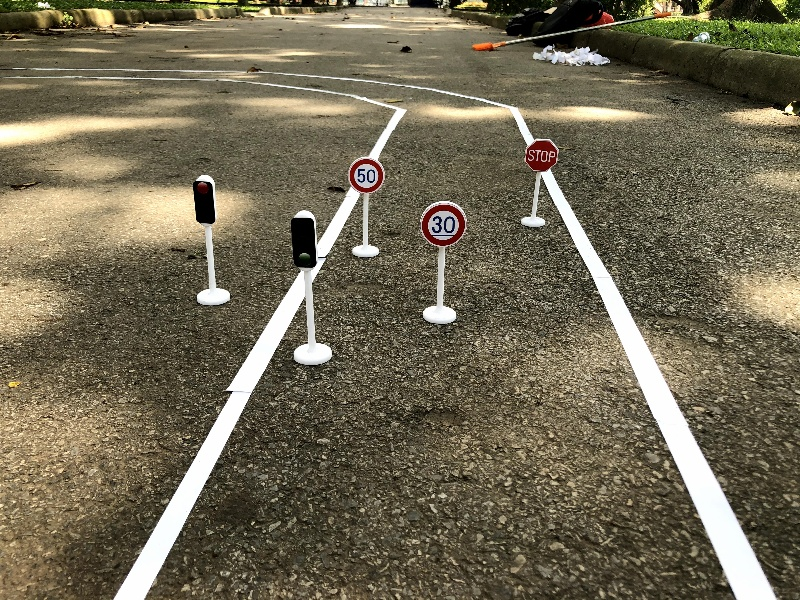Green: (289, 209, 334, 367)
Limit 30: (419, 199, 468, 325)
Limit 50: (347, 156, 386, 258)
Red: (191, 170, 234, 307)
Stop: (519, 137, 560, 228)
